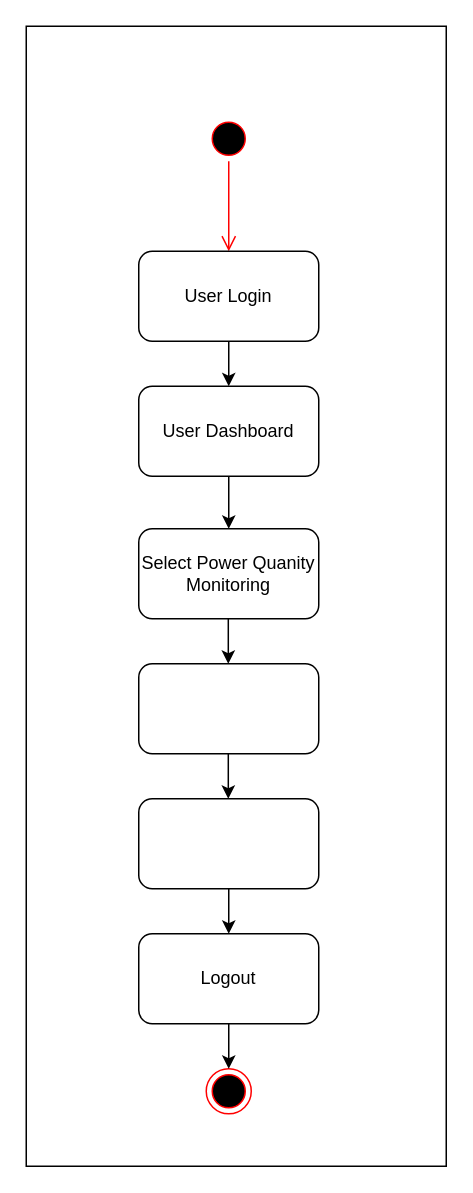
Image size: 473x1193. Some labels were removed from this diagram. Each missing label, with the centre of its shape:
"Display Graph" belongs at point 228,843.
"Select Dialy / Monthly / Yearly" belongs at point 228,708.
